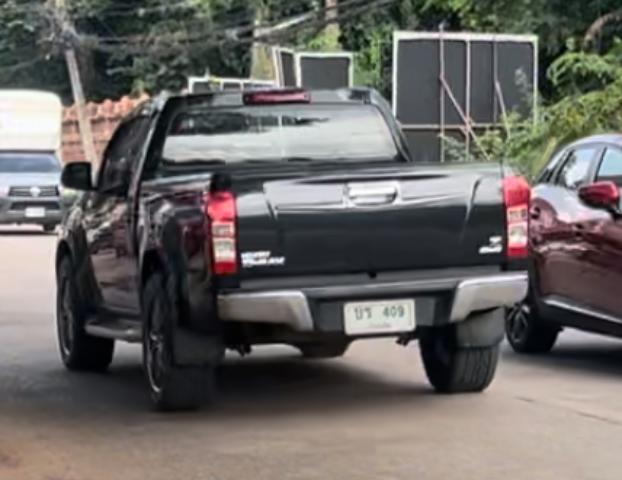pickup-truck: (44, 82, 539, 407)
